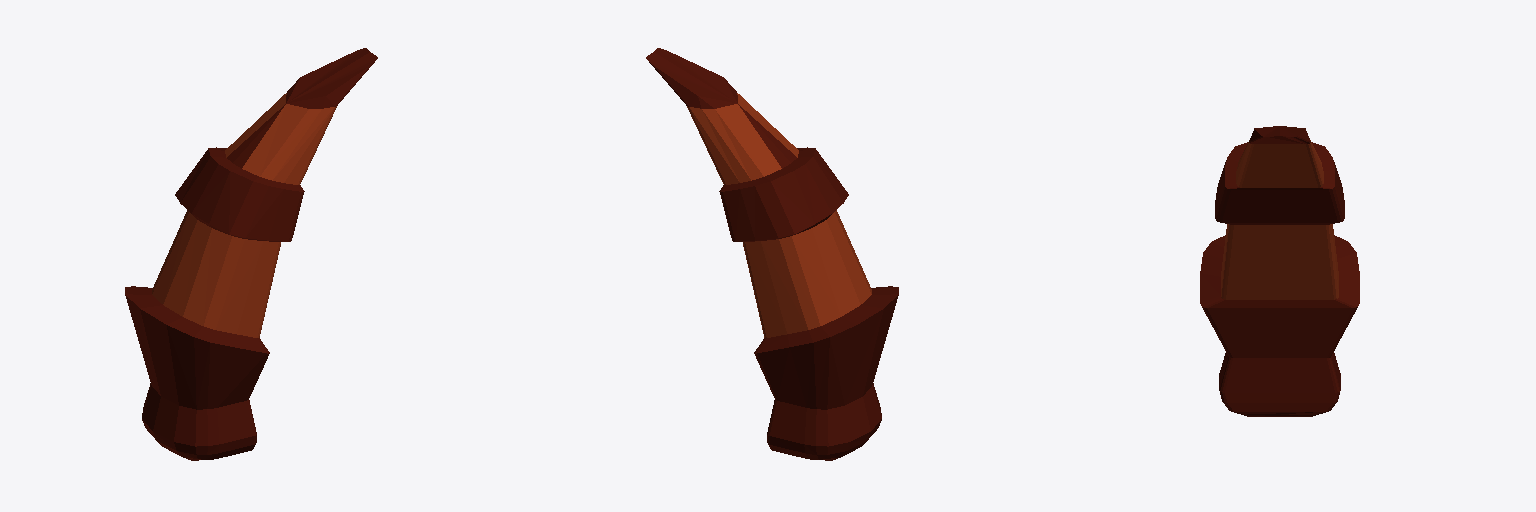
Rendered from character_rogueArmRight.obj.
3 renders of one model, left to right at view 1: azimuth 30°, elevation 25°; view 2: azimuth 150°, elevation 25°; view 3: azimuth 270°, elevation 25°, orthographic.
Parts seen in each view (by area): view 1: character_rogueArmRight_Cube.012; view 2: character_rogueArmRight_Cube.012; view 3: character_rogueArmRight_Cube.012.
Boxes of the visible parts, <box> form: character_rogueArmRight_Cube.012: <box>125,48,377,460</box>; character_rogueArmRight_Cube.012: <box>646,48,898,460</box>; character_rogueArmRight_Cube.012: <box>1200,126,1359,416</box>.
Size of the model in its own units: 0.3931 by 0.5708 by 0.2343.